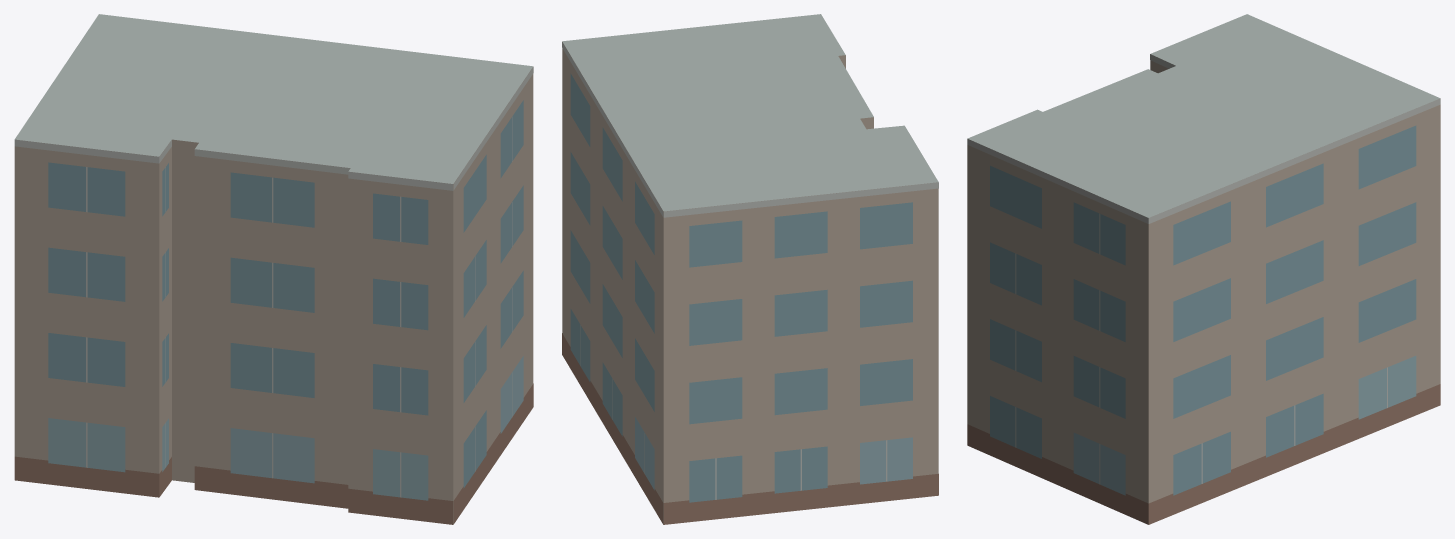
File: survey-upis-32815273.glb
The picture shows the model from 3 angles, left to right: view 1: azimuth 30°, elevation 25°; view 2: azimuth 150°, elevation 25°; view 3: azimuth 270°, elevation 25°; orthographic projection. The views are drawn at different scales.
Parts seen in each view (by area): view 1: survey-upis-32815273.tmp; view 2: survey-upis-32815273.tmp; view 3: survey-upis-32815273.tmp.
Boxes of the visible parts, bbox=[...] form: survey-upis-32815273.tmp: bbox=[14, 14, 533, 524]; survey-upis-32815273.tmp: bbox=[562, 14, 938, 524]; survey-upis-32815273.tmp: bbox=[967, 14, 1440, 524].
Size of the model in its own units: 17.33 by 12.15 by 16.99.
